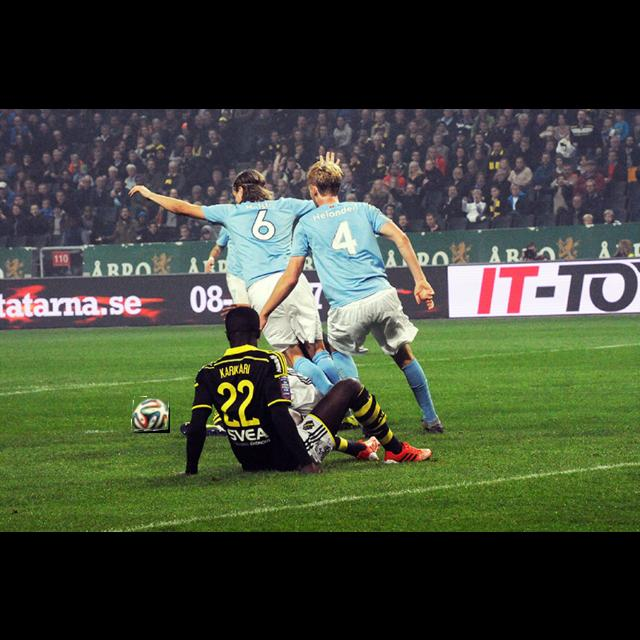Football: (132, 397, 170, 433)
